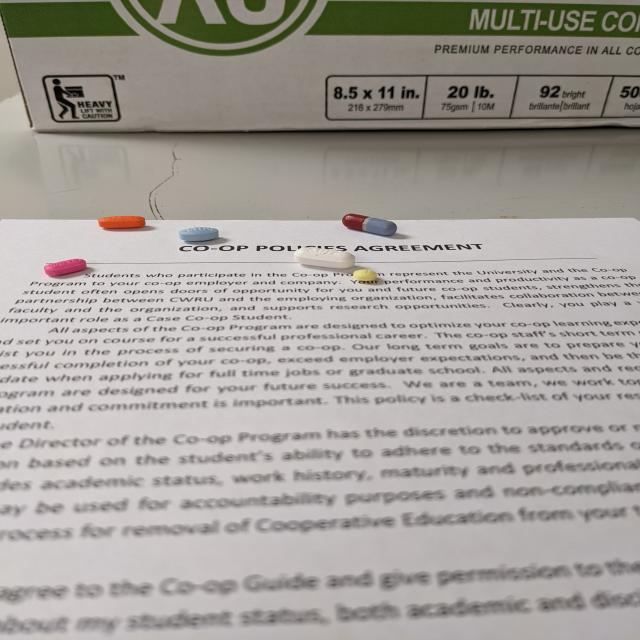non-organic waste: (293, 246, 357, 269), (341, 213, 399, 237), (42, 258, 88, 277), (97, 215, 147, 230), (177, 226, 220, 242), (352, 269, 378, 283)
